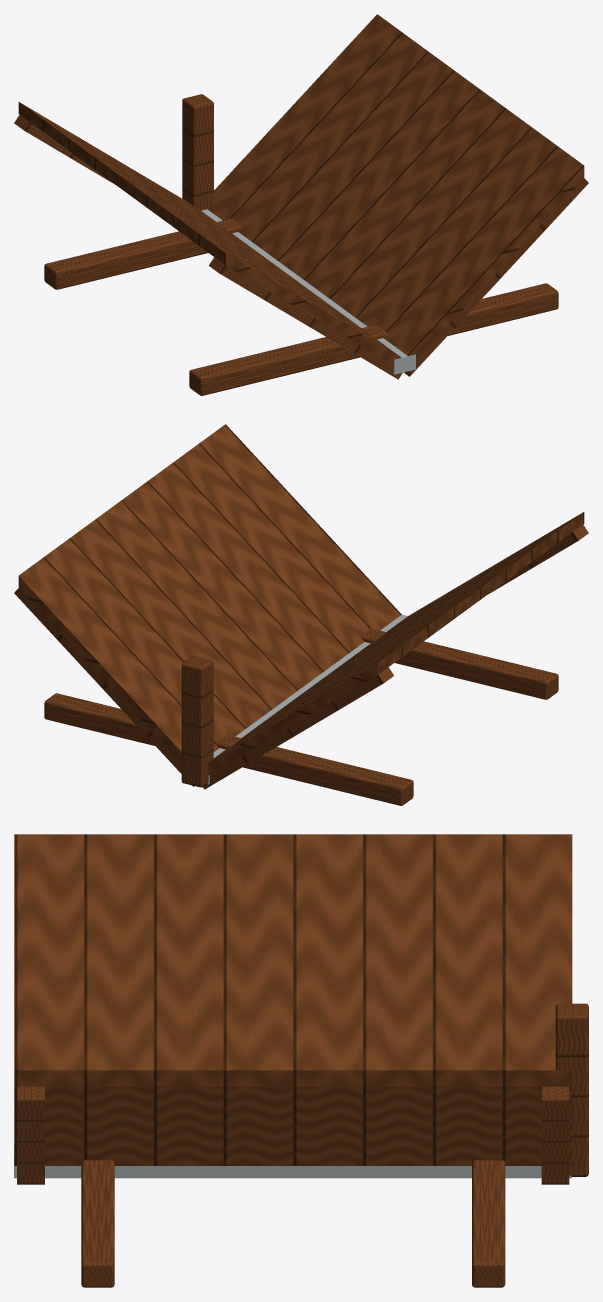
Rendered from modular-survival-base-builder-roof-valley-junction-423e33f7__24176.glb.
3 views of the same model, one above another, from view 1: azimuth 30°, elevation 25°; view 2: azimuth 150°, elevation 25°; view 3: azimuth 270°, elevation 25° (orthographic). The views are drawn at different scales.
Parts seen in each view (by area): view 1: roof-valley-junction; view 2: roof-valley-junction; view 3: roof-valley-junction.
Part boxes in pixels (box(x1,y1,x2,y2)): roof-valley-junction: box(14, 14, 588, 395); roof-valley-junction: box(14, 424, 588, 805); roof-valley-junction: box(14, 834, 588, 1287).
Bounding box in the file's own units: 2.06 × 0.9039 × 2.06.
2 materials, 1 textured.
